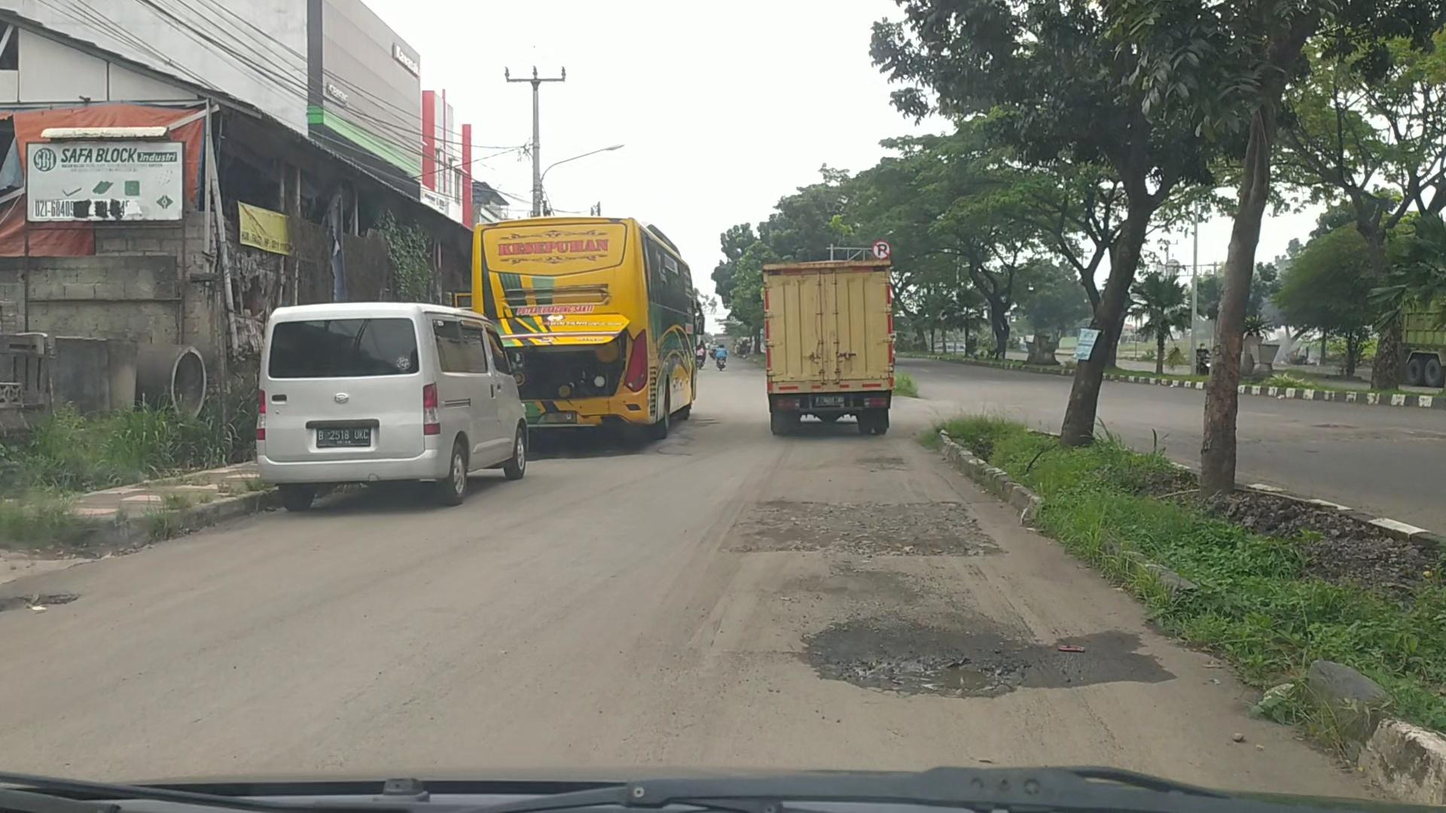pothole: (811, 615, 1162, 702), (728, 498, 999, 562)
